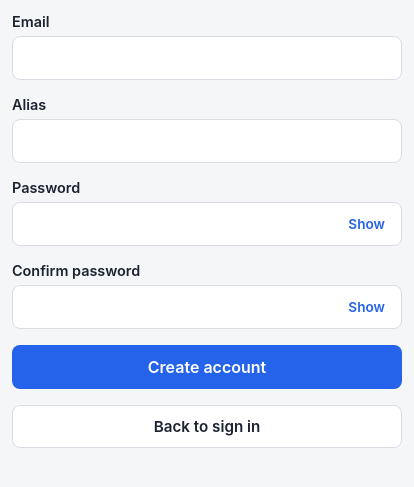
Test: RegistrationForm › shows a field error for an unavailable alias
Type "ana@example.com" into the field labelled "Email" at (207, 58), box [12,36,402,80]
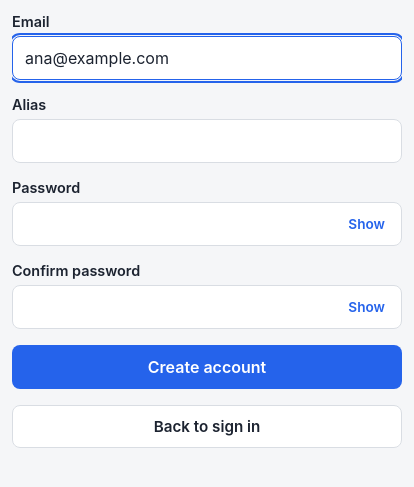
Type "Ana" into the field labelled "Alias" at (207, 141), box [12,119,402,163]
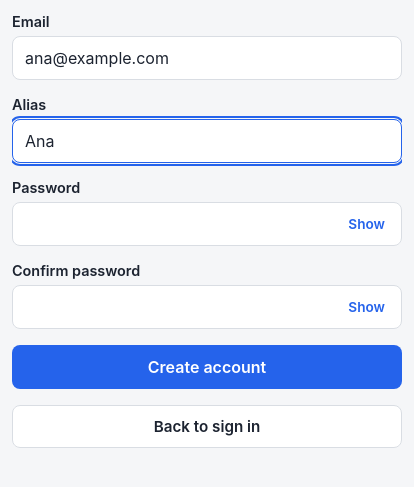
Type "correct-horse-battery-staple" into the password field labelled "Password" at (207, 224), box [12,202,402,246]
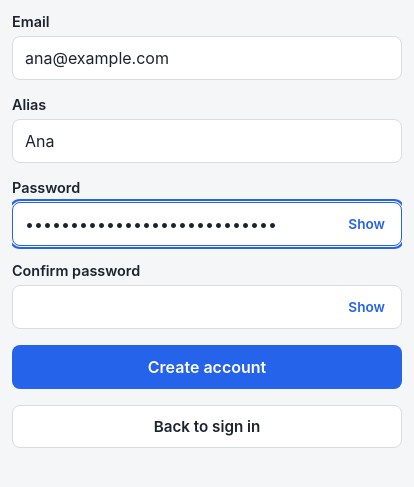
Type "correct-horse-battery-staple" into the password field labelled "Confirm password" at (207, 307), box [12,285,402,329]
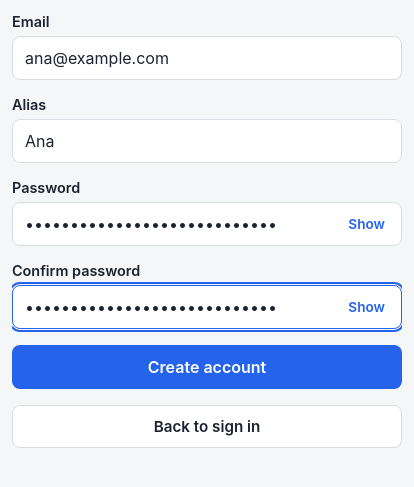
Click the button "Create account" at (207, 367), box [12,345,402,389]
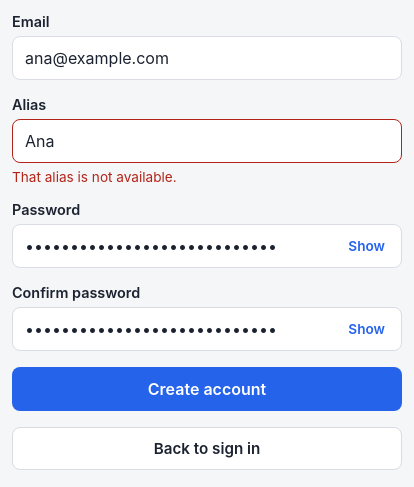
expect the text "That alias is not available." is shown: met, box [12,169,177,185]
